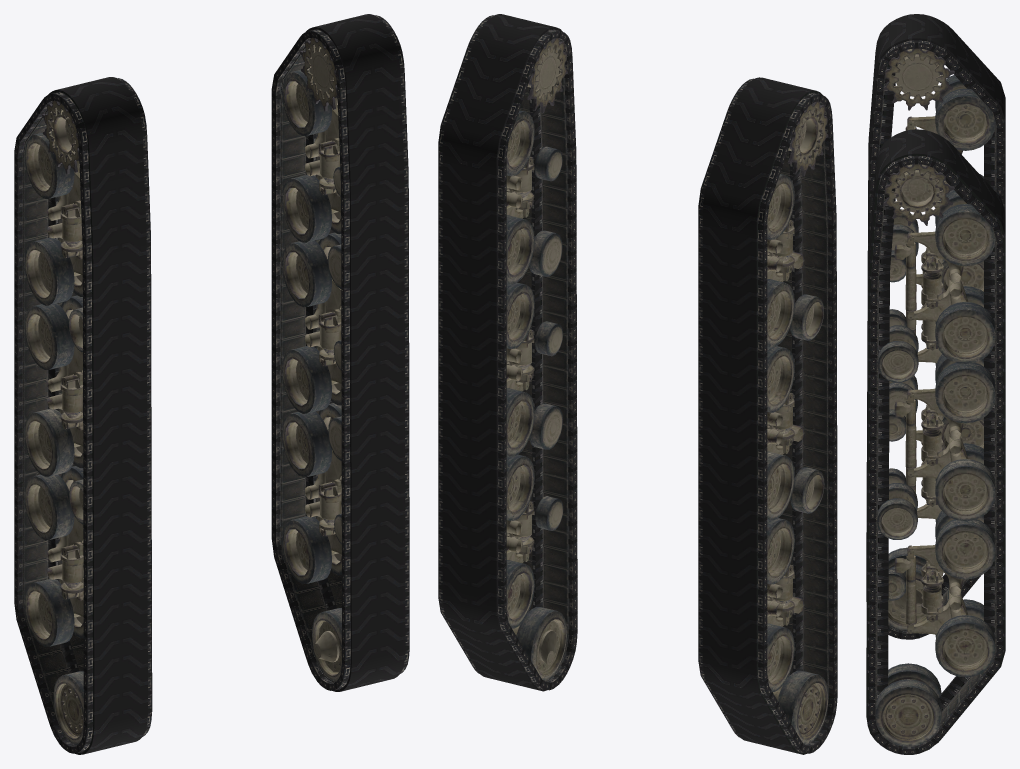
Rendered from Chassis.glb.
3 views of the same model, side by side, from view 1: azimuth 30°, elevation 25°; view 2: azimuth 150°, elevation 25°; view 3: azimuth 270°, elevation 25° (orthographic). The views are drawn at different scales.
Visible parts, largest first — view 1: set_1_group_0, set_0_group_0, set_3_group_0, set_2_group_0; view 2: set_1_group_0, set_0_group_0, set_3_group_0, set_2_group_0; view 3: set_3_group_0, set_0_group_0, set_2_group_0, set_1_group_0.
Part boxes in pixels (left/top/right/bottom): set_1_group_0: left=14, top=77, right=152, bottom=754; set_0_group_0: left=271, top=14, right=409, bottom=691; set_3_group_0: left=282, top=37, right=341, bottom=681; set_2_group_0: left=24, top=100, right=83, bottom=745; set_1_group_0: left=698, top=77, right=837, bottom=754; set_0_group_0: left=438, top=14, right=577, bottom=691; set_3_group_0: left=506, top=38, right=567, bottom=680; set_2_group_0: left=767, top=101, right=828, bottom=745; set_3_group_0: left=875, top=164, right=995, bottom=746; set_0_group_0: left=866, top=129, right=1005, bottom=754; set_2_group_0: left=883, top=48, right=995, bottom=629; set_1_group_0: left=866, top=14, right=1005, bottom=639.
Bounding box in the file's own units: 2.88 × 5.58 × 1.17.
Materials: 4 (4 with a texture image).
